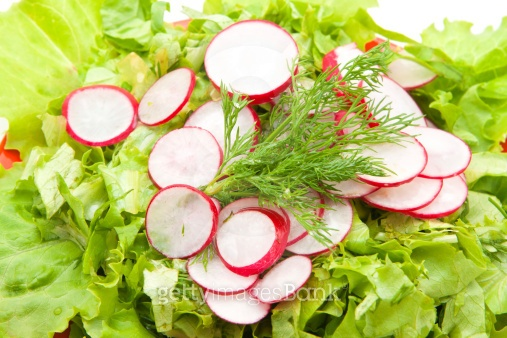chopped lettuce: (13, 11, 489, 331)
